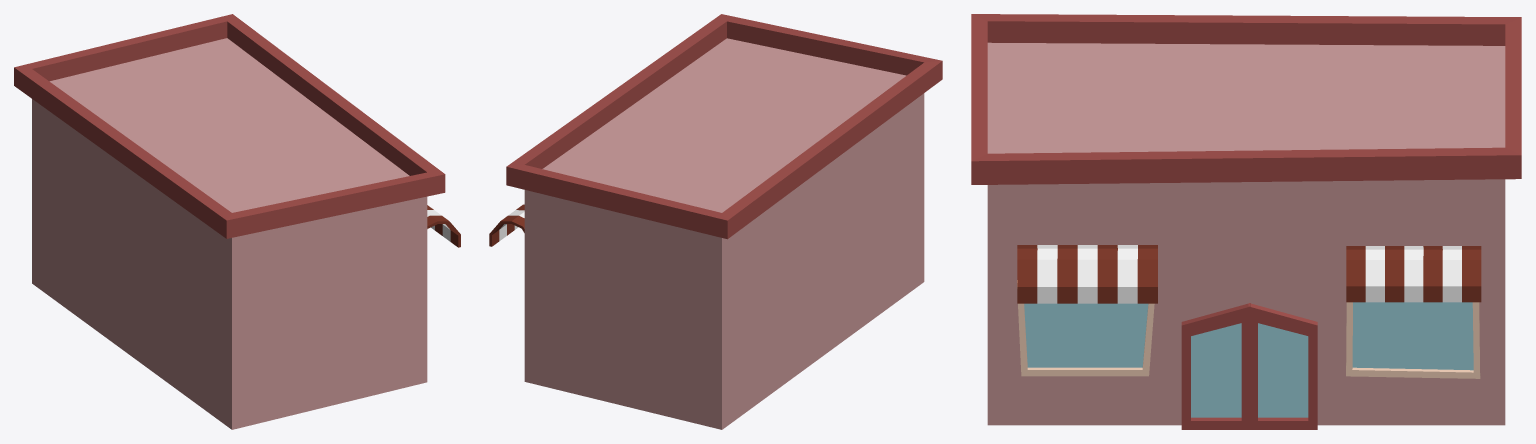
The model's file is Brown_Shop.fbx.
3 views of the same model, side by side, from view 1: azimuth 30°, elevation 25°; view 2: azimuth 150°, elevation 25°; view 3: azimuth 270°, elevation 25° (orthographic). The views are drawn at different scales.
Visible parts, largest first — view 1: Brown Shop; view 2: Brown Shop; view 3: Brown Shop.
Part boxes in pixels (x1=…): Brown Shop: x1=14, y1=14, x2=460, y2=429; Brown Shop: x1=489, y1=14, x2=942, y2=429; Brown Shop: x1=971, y1=14, x2=1521, y2=429.
Size of the model in its own units: 1382 by 1142 by 2019.
